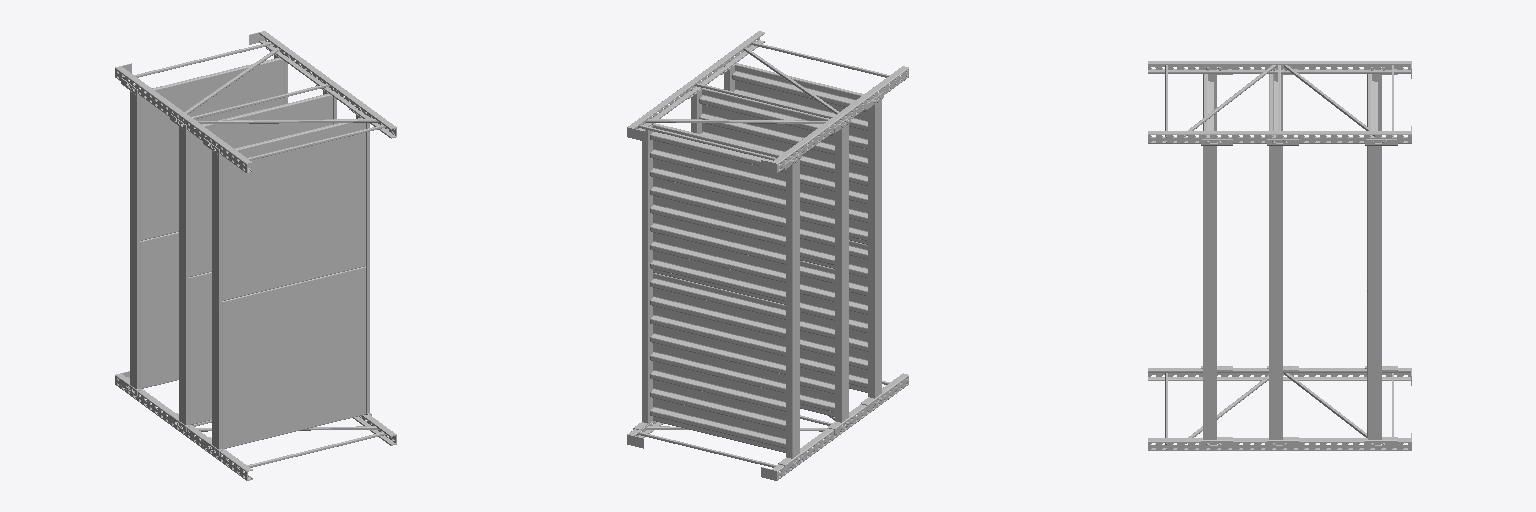
The model's file is shelf_large_simple.obj.
3 renders of one model, left to right at view 1: azimuth 30°, elevation 25°; view 2: azimuth 150°, elevation 25°; view 3: azimuth 270°, elevation 25°, orthographic.
Size of the model in its own units: 207 by 400 by 301.